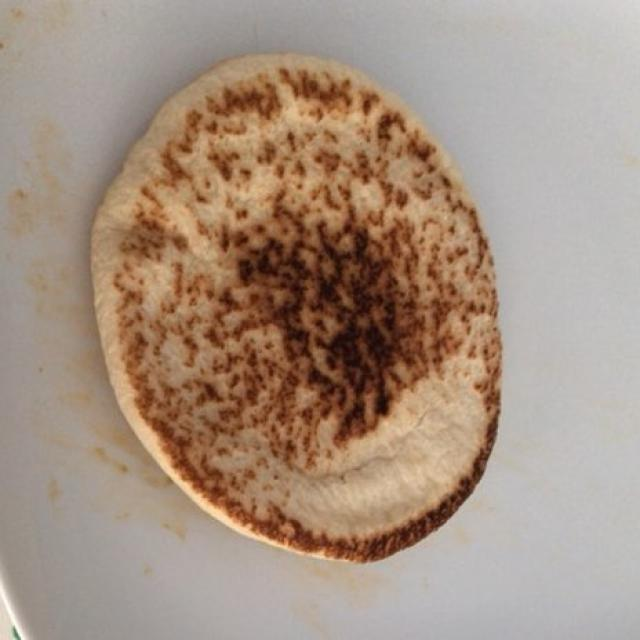bread: (96, 64, 499, 548)
